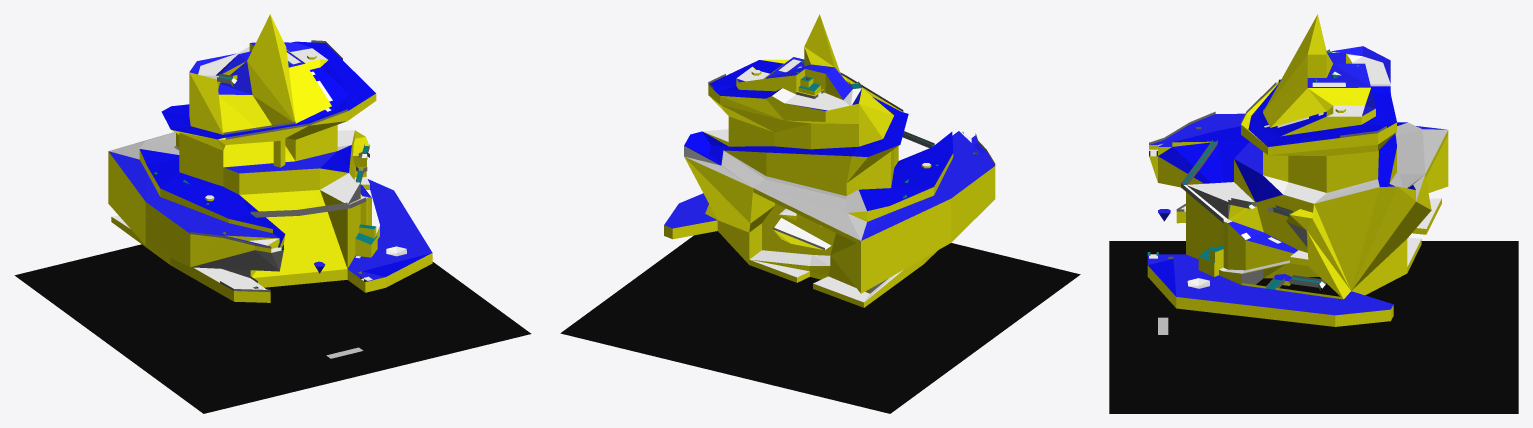
The model's file is ccm_segment7.0x138E8.collision.obj.
The picture shows the model from 3 angles, left to right: view 1: azimuth 30°, elevation 25°; view 2: azimuth 150°, elevation 25°; view 3: azimuth 270°, elevation 25°; orthographic projection. The views are drawn at different scales.
Visible parts, largest first — view 1: ccm_segment7_138E8_deathfloor, ccm_segment7_138E8_normal, ccm_segment7_138E8_slippery, ccm_segment7_138E8_very_slippery, ccm_segment7_138E8_snowy2, ccm_segment7_138E8_wall, ccm_segment7_138E8_75; view 2: ccm_segment7_138E8_deathfloor, ccm_segment7_138E8_normal, ccm_segment7_138E8_very_slippery, ccm_segment7_138E8_slippery, ccm_segment7_138E8_75, ccm_segment7_138E8_snowy2, ccm_segment7_138E8_wall; view 3: ccm_segment7_138E8_deathfloor, ccm_segment7_138E8_normal, ccm_segment7_138E8_slippery, ccm_segment7_138E8_very_slippery, ccm_segment7_138E8_snowy2, ccm_segment7_138E8_wall, ccm_segment7_138E8_75, ccm_segment7_138E8_flat.
Boxes of the visible parts, x1,y1,x2,y2 form: ccm_segment7_138E8_deathfloor: [14, 244, 531, 413]; ccm_segment7_138E8_normal: [108, 14, 432, 302]; ccm_segment7_138E8_slippery: [109, 42, 432, 281]; ccm_segment7_138E8_very_slippery: [140, 41, 431, 276]; ccm_segment7_138E8_snowy2: [112, 46, 406, 289]; ccm_segment7_138E8_wall: [190, 40, 369, 292]; ccm_segment7_138E8_75: [108, 132, 179, 159]; ccm_segment7_138E8_deathfloor: [560, 231, 1080, 413]; ccm_segment7_138E8_normal: [664, 14, 995, 307]; ccm_segment7_138E8_very_slippery: [684, 60, 953, 211]; ccm_segment7_138E8_slippery: [664, 57, 994, 240]; ccm_segment7_138E8_75: [684, 146, 866, 240]; ccm_segment7_138E8_snowy2: [702, 59, 971, 302]; ccm_segment7_138E8_wall: [708, 72, 995, 293]; ccm_segment7_138E8_deathfloor: [1109, 241, 1518, 413]; ccm_segment7_138E8_normal: [1147, 14, 1448, 326]; ccm_segment7_138E8_slippery: [1147, 46, 1446, 315]; ccm_segment7_138E8_very_slippery: [1148, 79, 1415, 296]; ccm_segment7_138E8_snowy2: [1149, 51, 1441, 288]; ccm_segment7_138E8_wall: [1149, 49, 1386, 290]; ccm_segment7_138E8_75: [1389, 122, 1447, 201]; ccm_segment7_138E8_flat: [1147, 51, 1358, 289].
Size of the model in its own units: 16 by 13.5 by 16.
